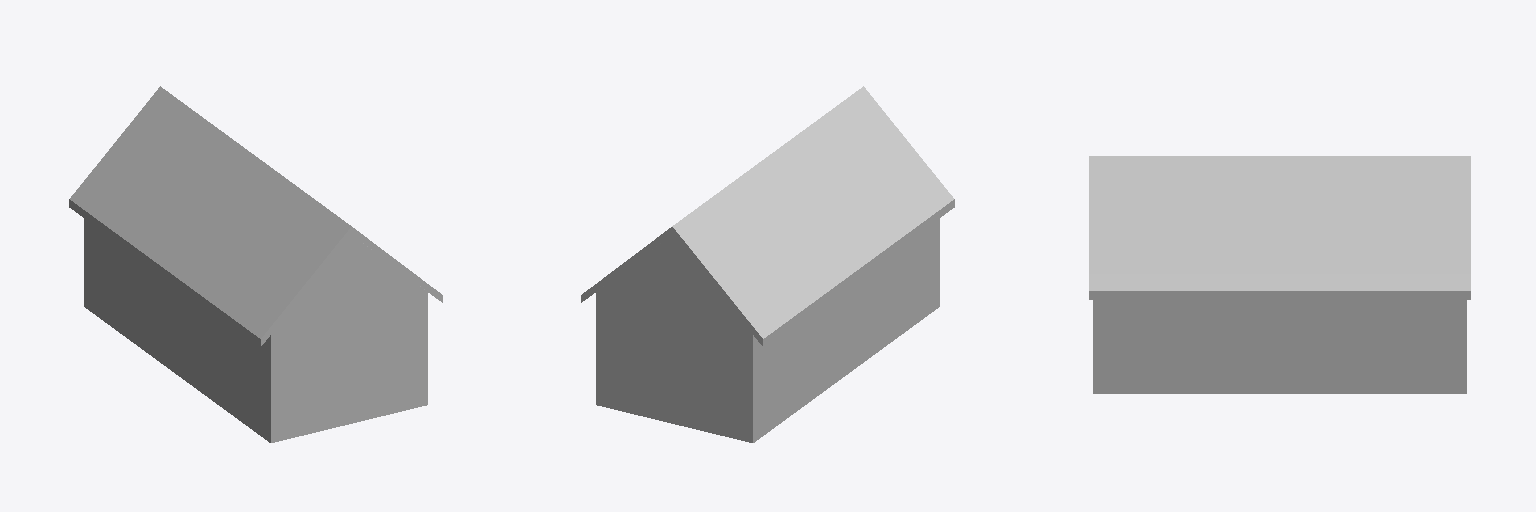
Rendered from house.obj.
3 views of the same model, side by side, from view 1: azimuth 30°, elevation 25°; view 2: azimuth 150°, elevation 25°; view 3: azimuth 270°, elevation 25° (orthographic).
Parts seen in each view (by area): view 1: Cube_Cube.002; view 2: Cube_Cube.002; view 3: Cube_Cube.002.
Boxes of the visible parts, x1,y1,x2,y2 form: Cube_Cube.002: [69, 86, 442, 442]; Cube_Cube.002: [581, 86, 954, 442]; Cube_Cube.002: [1089, 156, 1470, 393].
Size of the model in its own units: 2.31 by 2.42 by 4.2.